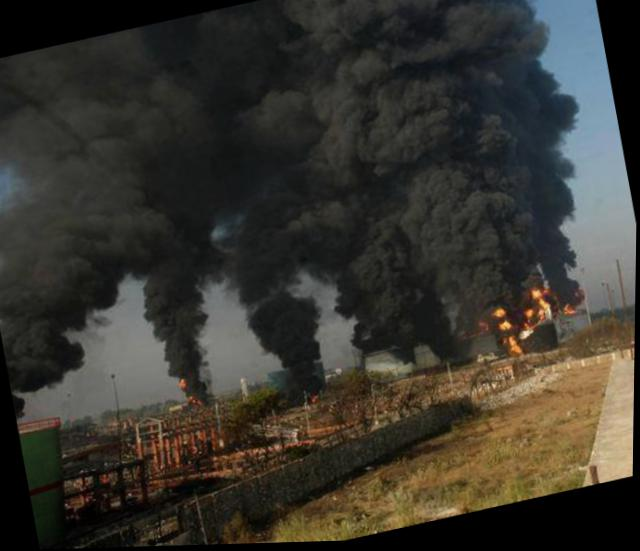fire: (502, 334, 523, 361), (533, 297, 551, 319), (516, 323, 534, 340), (490, 302, 507, 319), (495, 317, 512, 331), (559, 302, 576, 316), (528, 288, 541, 298), (523, 307, 534, 318)
